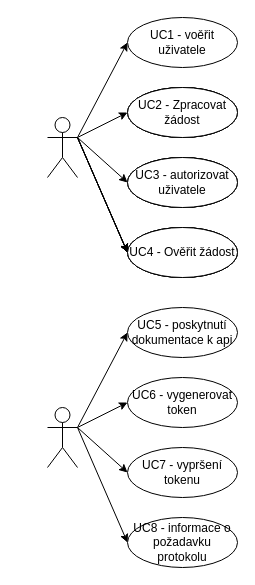
Some shapes in this 255 by 585 pixel diagram are drawn without their labels. Here are the shapes that lost their labels. From the top down, the centre of each, then its label:
At pixel 62 147: "User".
At pixel 62 437: "Api Administrátor".
